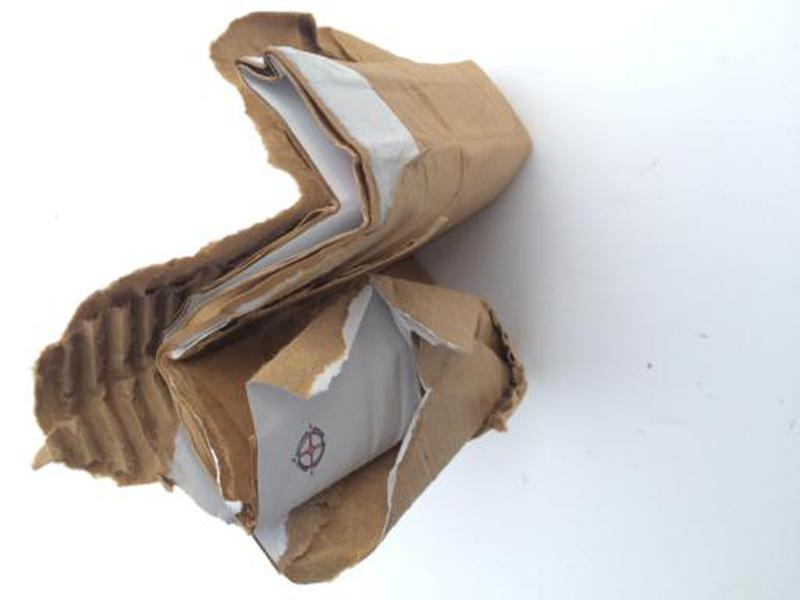cardboard: (25, 8, 543, 584)
